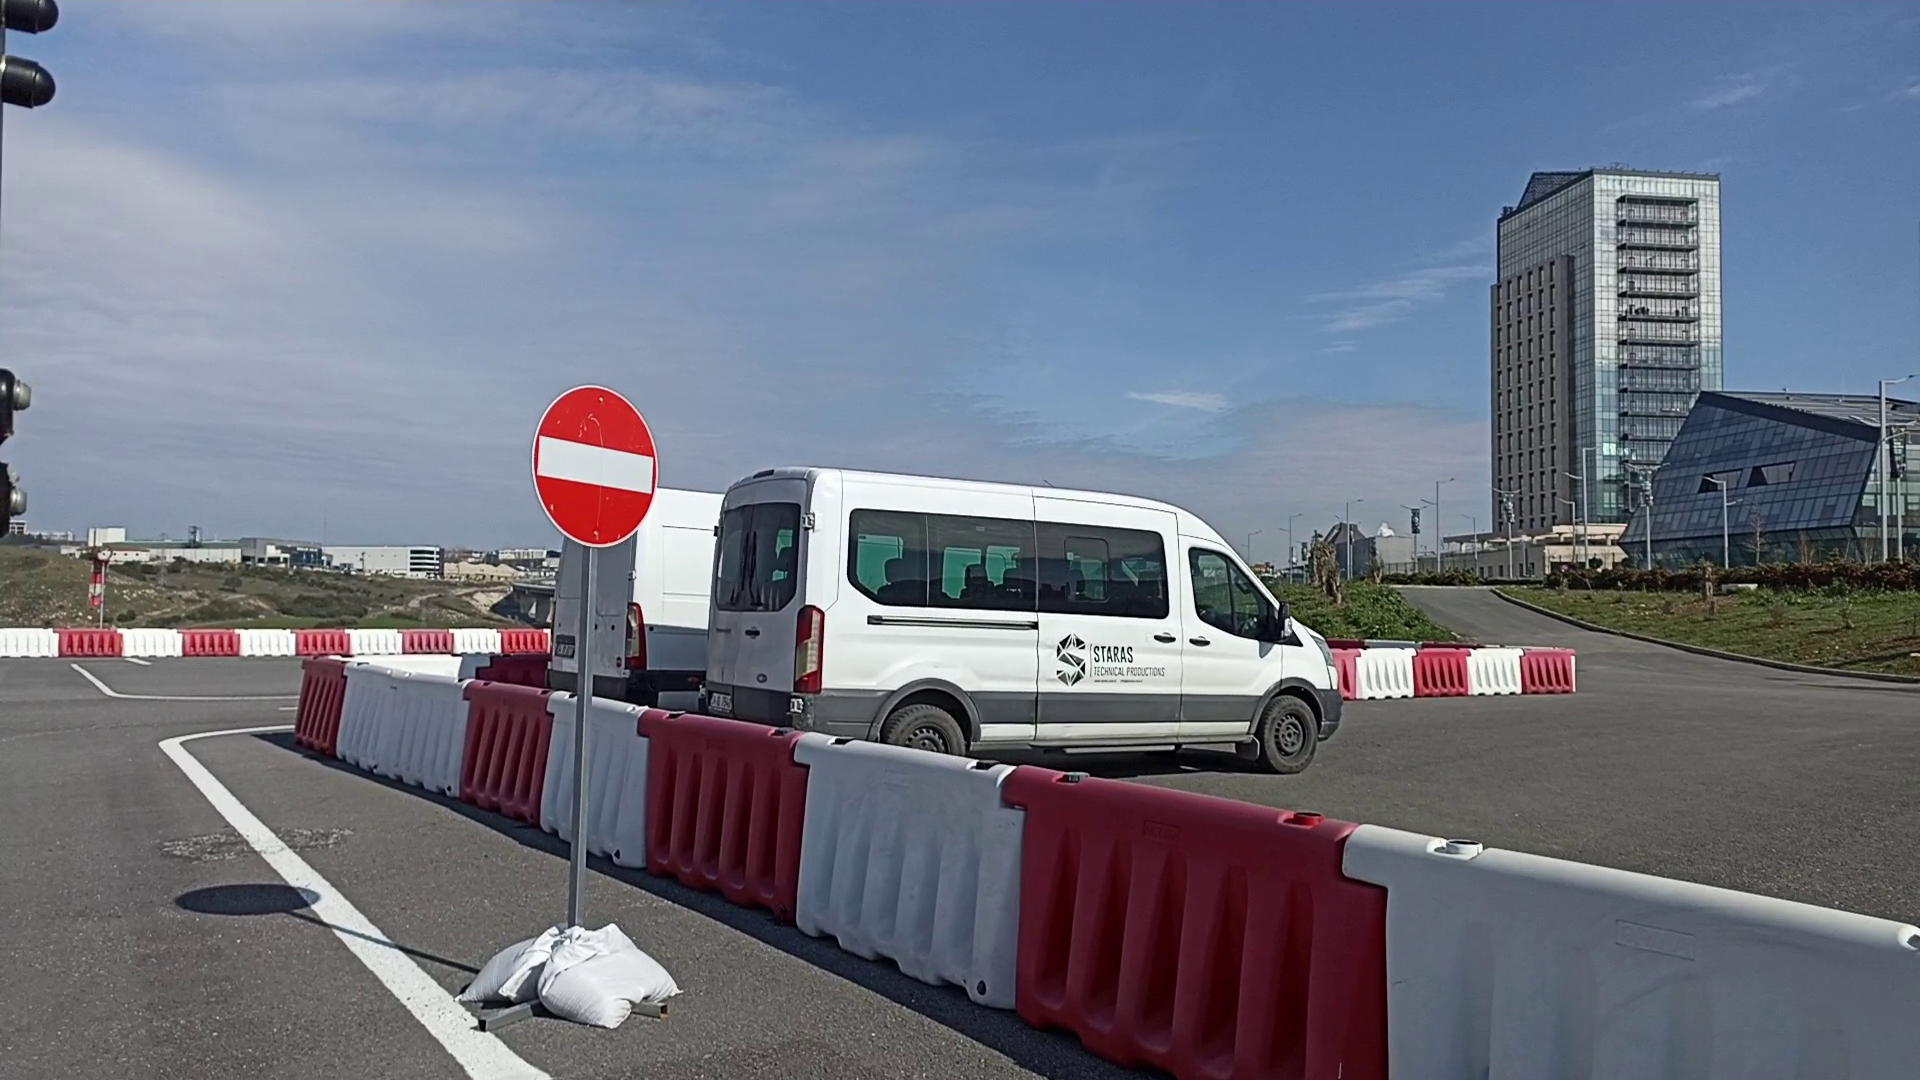noentryway: (531, 382, 665, 553)
